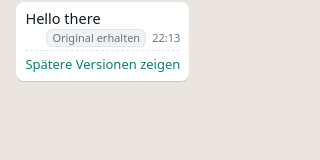
MessageBubble › marks kept originals and reveals later versions
expect the text "Original erhalten" is shown: met, box [46,29,146,47]
Click the button "Spätere Versionen zeigen" at (103, 64), box [25,55,180,73]
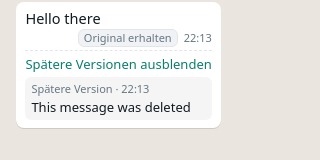
expect the text "This message was deleted" is shown: met, box [31,98,206,116]
